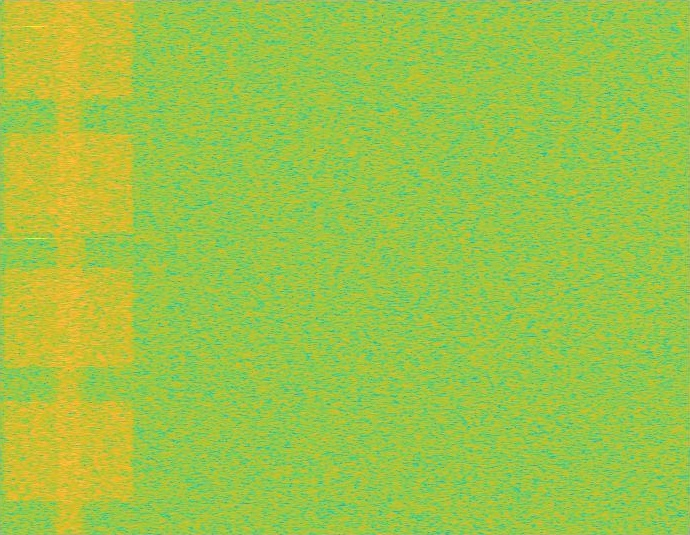5G: (0, 0, 138, 534)
DSSS: (53, 0, 85, 534)
Radar: (29, 0, 43, 534)
